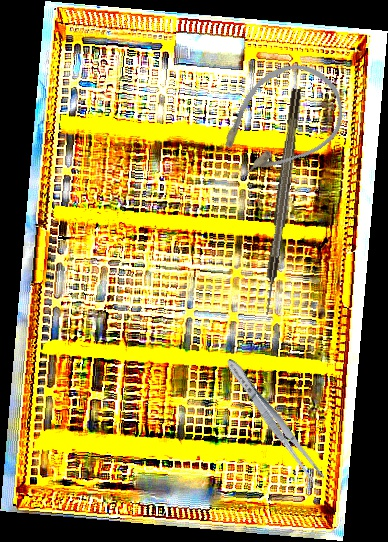Cannula: (199, 46, 360, 199)
Dressing Forceps: (221, 354, 327, 487)
Hook Surgical: (260, 88, 304, 316)
